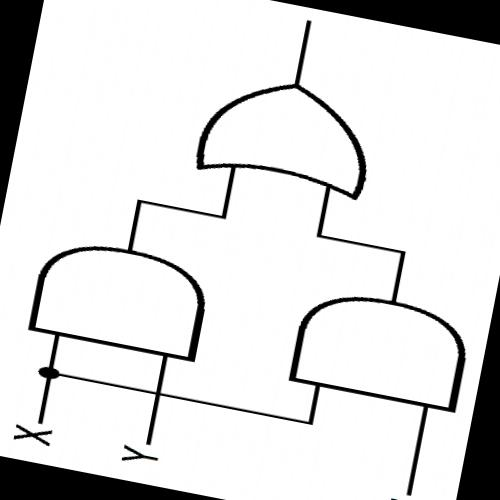and: (276, 274, 482, 420), (15, 225, 221, 368)
or: (182, 61, 389, 207)
